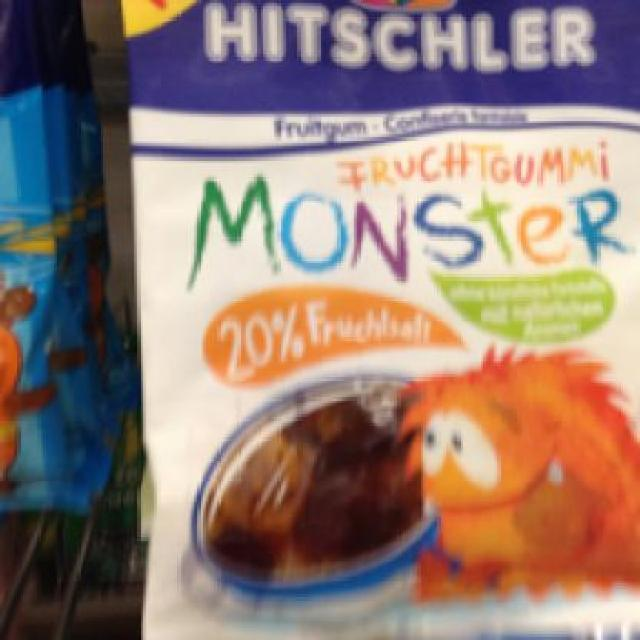Candy: (117, 0, 634, 637)
